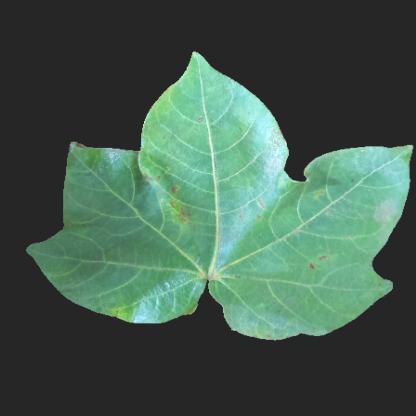curl_stage1: (141, 169, 204, 230), (102, 300, 142, 320)
healthy: (226, 233, 312, 333), (65, 211, 139, 295), (211, 126, 270, 226), (312, 187, 362, 296), (145, 231, 203, 299), (152, 100, 214, 163), (72, 154, 137, 206), (344, 157, 409, 193)
